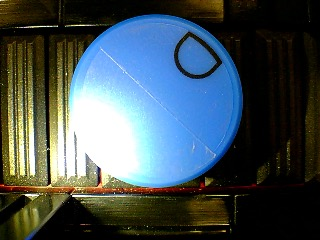MIPO1: (68, 14, 243, 187)
